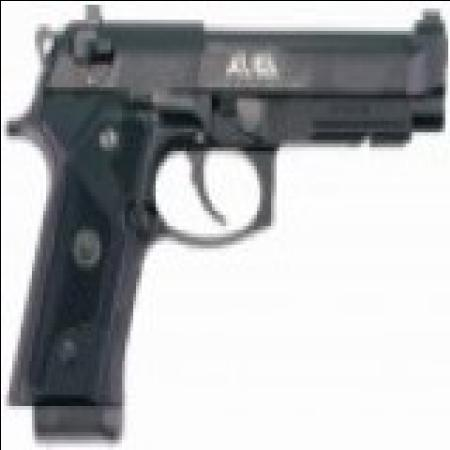Pistol: (12, 3, 445, 402)
